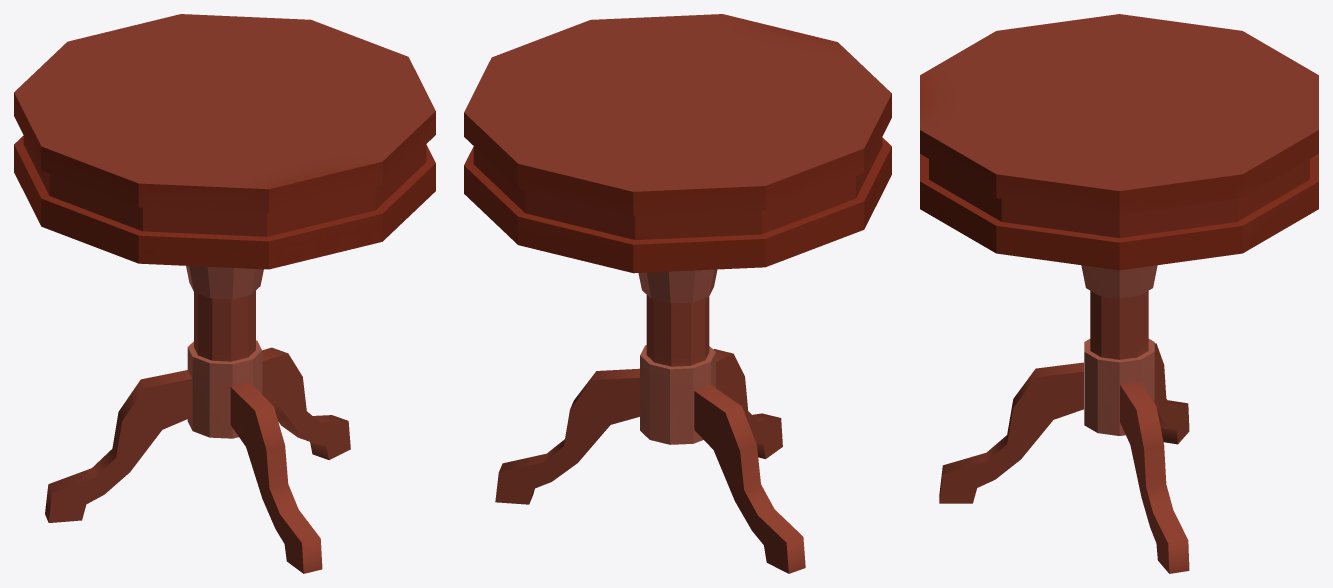
File: table.fbx
3 renders of one model, left to right at view 1: azimuth 30°, elevation 25°; view 2: azimuth 150°, elevation 25°; view 3: azimuth 270°, elevation 25°, orthographic. The views are drawn at different scales.
Parts seen in each view (by area): view 1: pCylinder1, pCube4, pCylinder2, pCube3; view 2: pCylinder1, pCube4, pCylinder2, pCube3; view 3: pCylinder1, pCylinder2, pCube4, pCube3.
Part boxes in pixels (bbox=[...]): pCylinder1: bbox=[14, 14, 435, 269]; pCube4: bbox=[45, 347, 350, 522]; pCylinder2: bbox=[186, 266, 263, 438]; pCube3: bbox=[230, 382, 322, 573]; pCylinder1: bbox=[464, 14, 891, 273]; pCube4: bbox=[495, 368, 805, 573]; pCylinder2: bbox=[638, 269, 717, 444]; pCube3: bbox=[713, 349, 782, 459]; pCylinder1: bbox=[920, 14, 1318, 270]; pCylinder2: bbox=[1081, 265, 1157, 435]; pCube4: bbox=[1120, 343, 1189, 573]; pCube3: bbox=[939, 362, 1083, 503].
Bounding box in the file's own units: 22.49 × 23.59 × 21.39.
